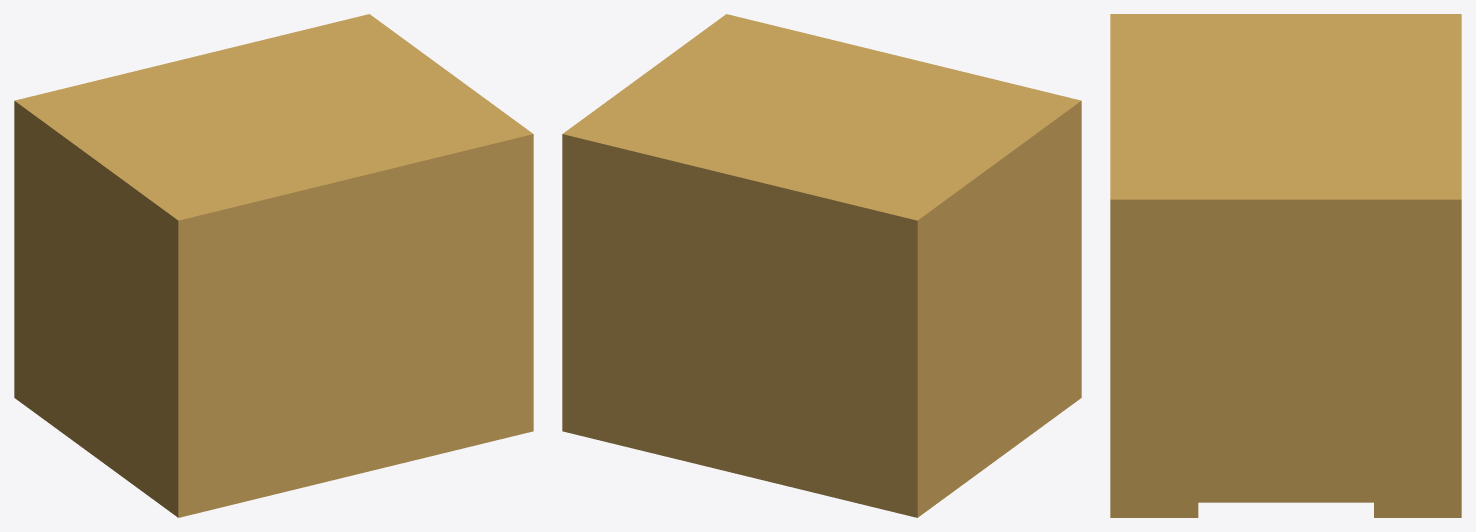
The picture shows the model from 3 angles, left to right: view 1: azimuth 30°, elevation 25°; view 2: azimuth 150°, elevation 25°; view 3: azimuth 270°, elevation 25°; orthographic projection. The views are drawn at different scales.
Parts seen in each view (by area): view 1: Wall.109; view 2: Wall.109; view 3: Wall.109.
Part boxes in pixels (bbox=[...]): Wall.109: bbox=[14, 14, 533, 517]; Wall.109: bbox=[562, 14, 1081, 517]; Wall.109: bbox=[1110, 14, 1461, 517].
Size of the model in its own units: 5 by 4.01 by 4.
Materials: 1 (1 with a texture image).
